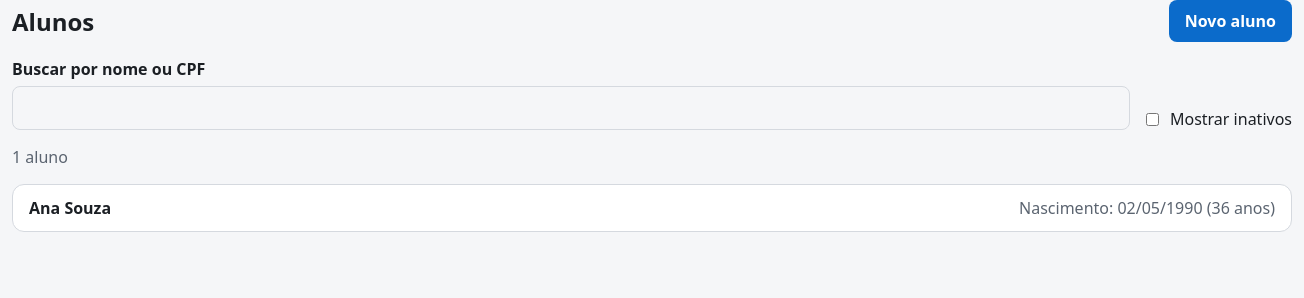
Scenario: lista de alunos › mostrar inativos: pede à API e marca o inativo
Check: the text "Ana Souza" is shown, box [29,197,111,219]
Click the checkbox labelled "Mostrar inativos" at (1152, 119), box [1146,112,1159,126]
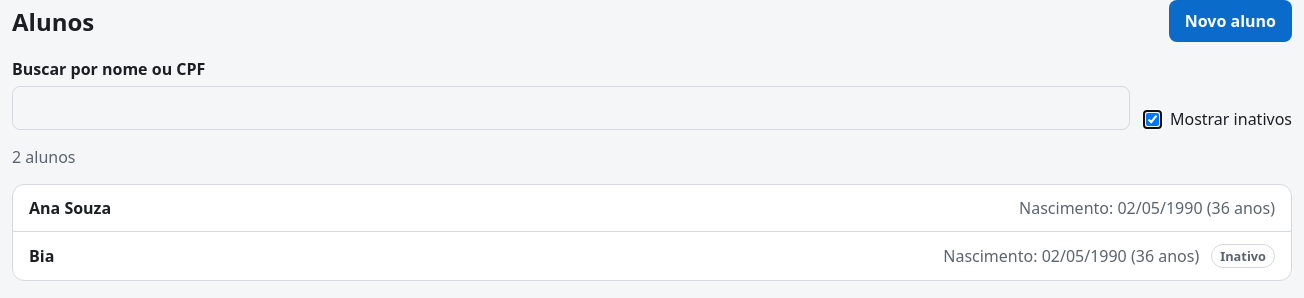
Check: the text "Inativo" is shown, box [1211,244,1275,268]
